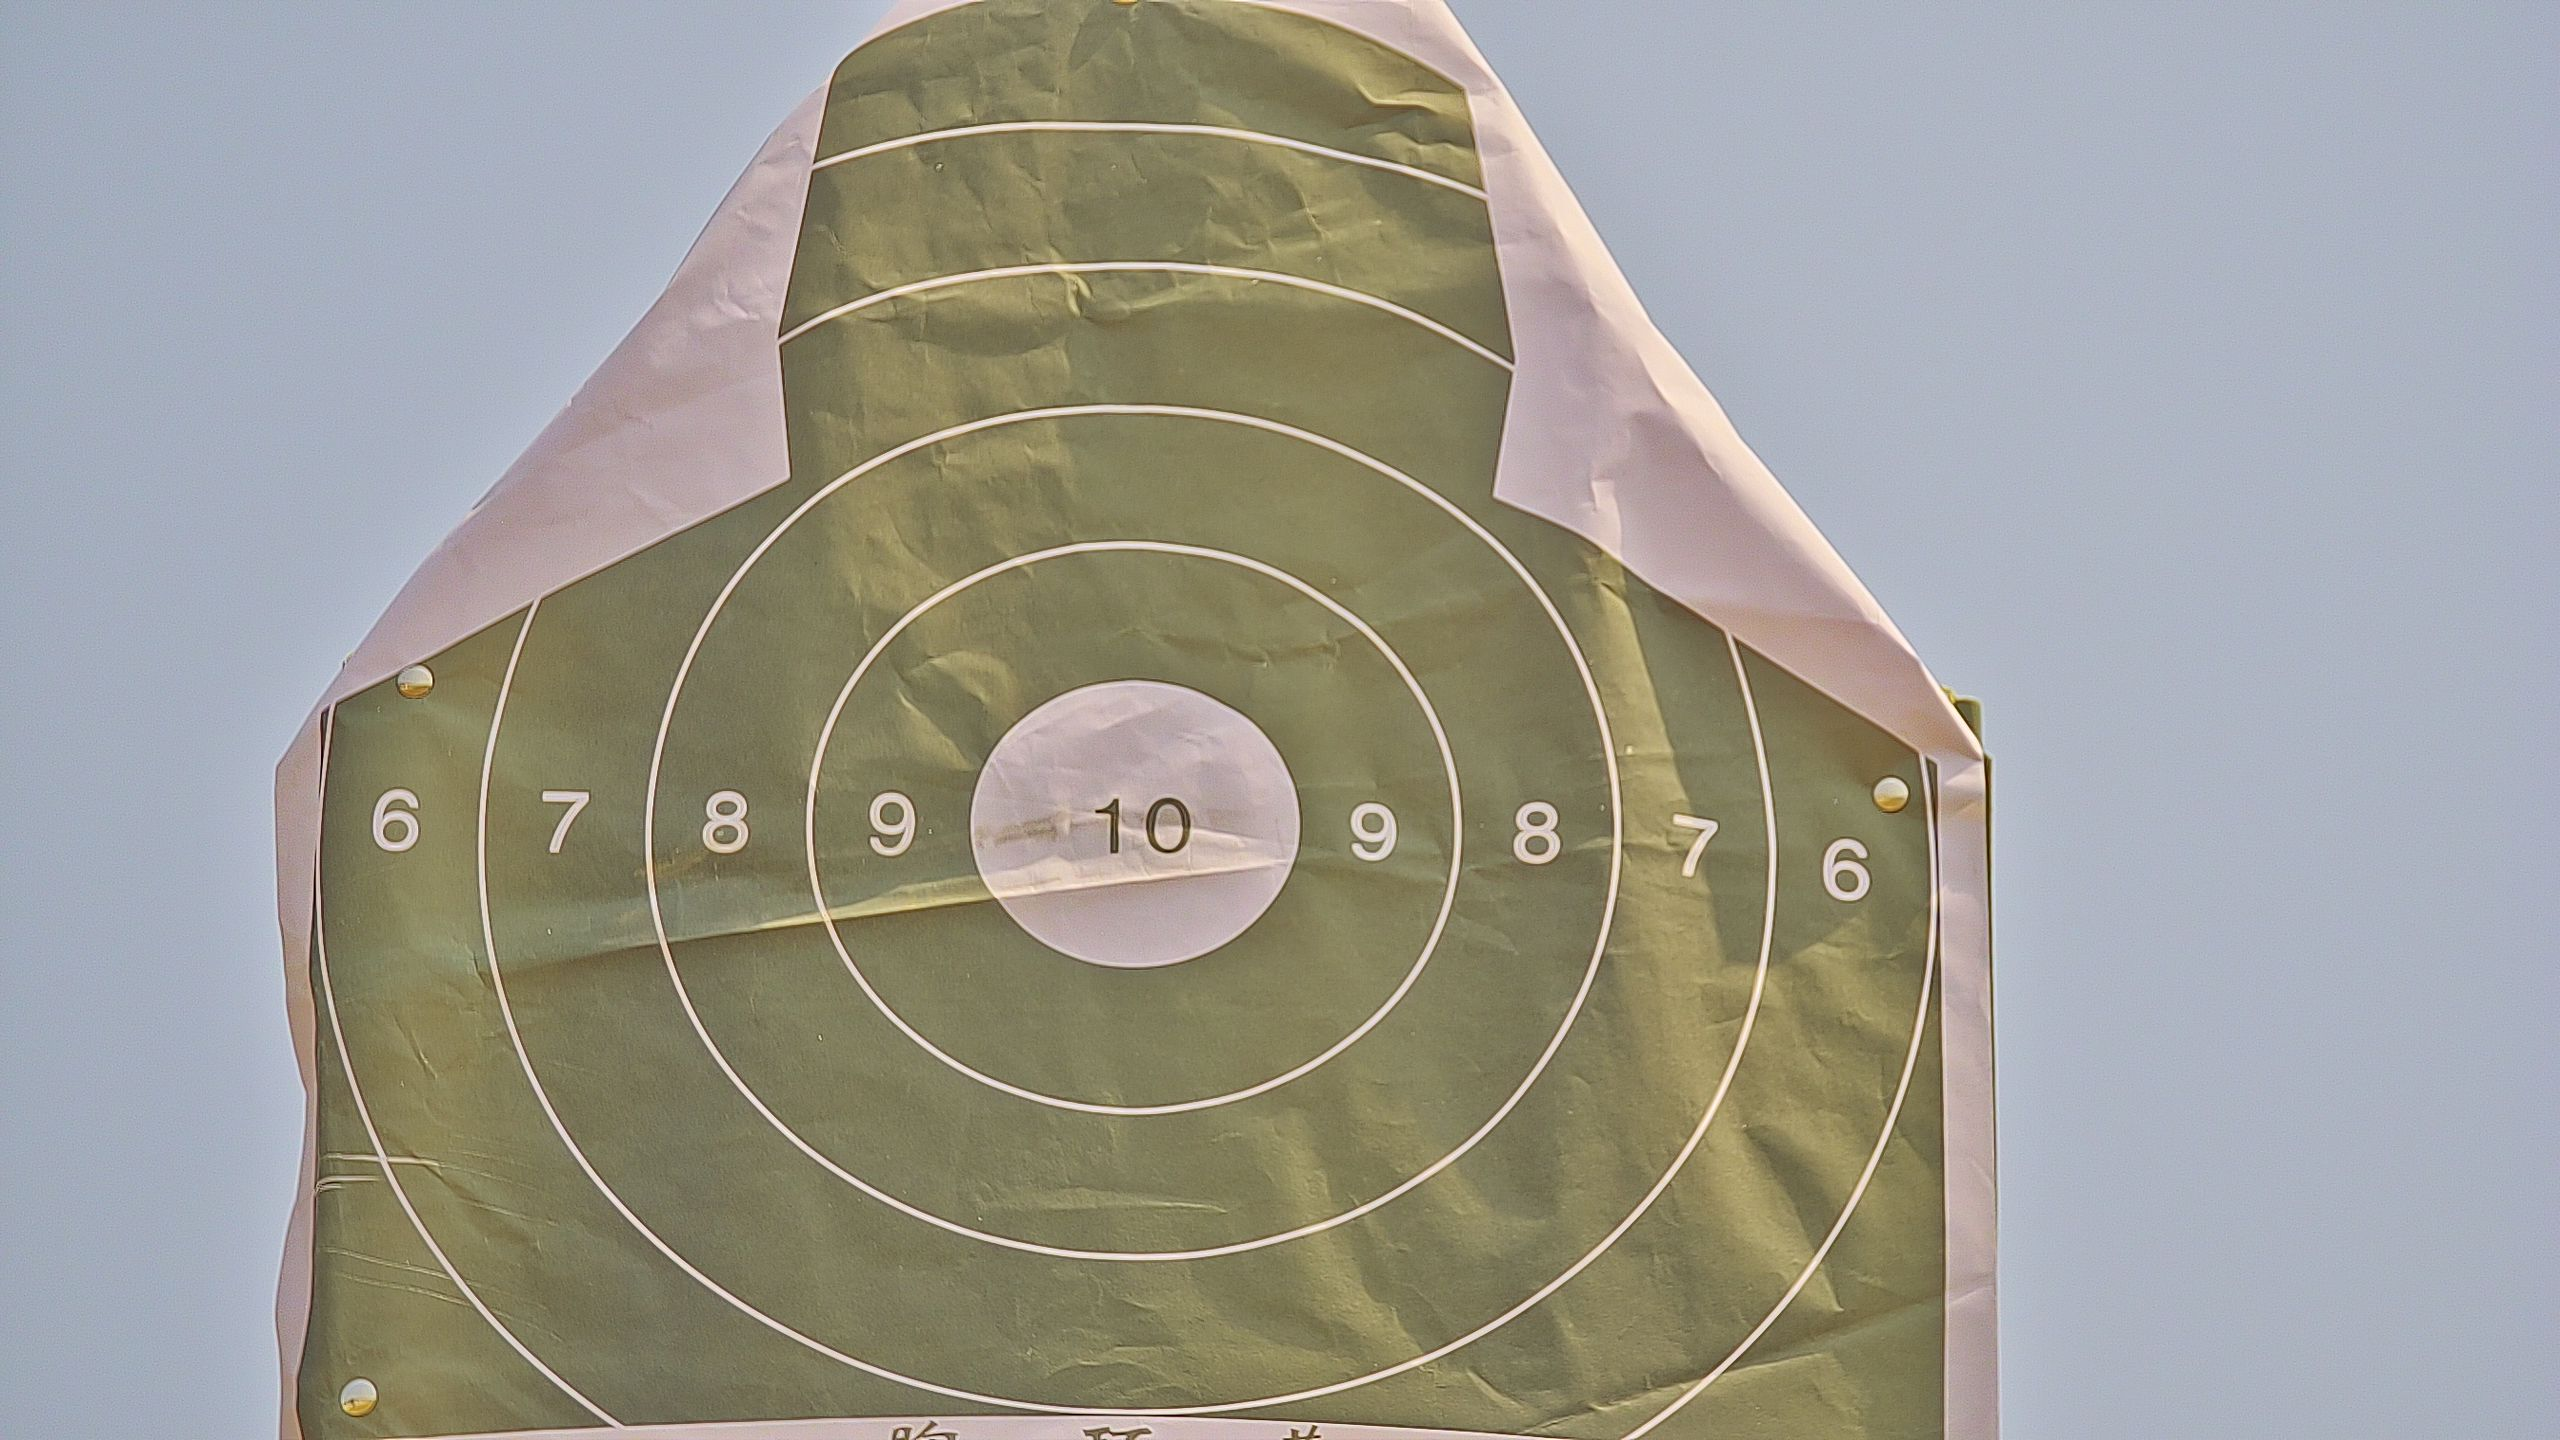kernel: (1132, 825, 1134, 826)
target: (311, 2, 1946, 1440)
ten: (969, 682, 1305, 971)
